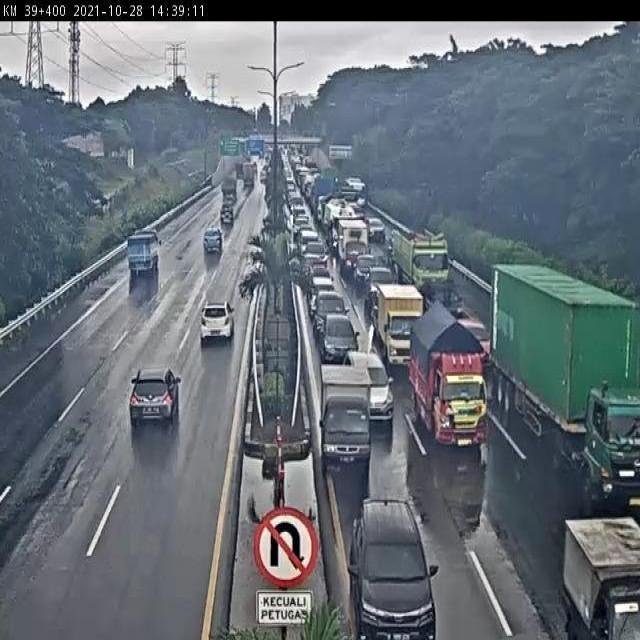big truck: (483, 233, 640, 524), (384, 228, 452, 301)
car: (335, 484, 445, 635), (119, 353, 187, 440), (344, 341, 394, 424), (194, 292, 241, 356), (316, 308, 361, 365), (454, 310, 491, 370), (310, 288, 351, 341), (197, 226, 225, 262)
small truck: (395, 292, 497, 453), (547, 510, 640, 640), (311, 356, 375, 481), (371, 280, 429, 369), (123, 221, 164, 280)
